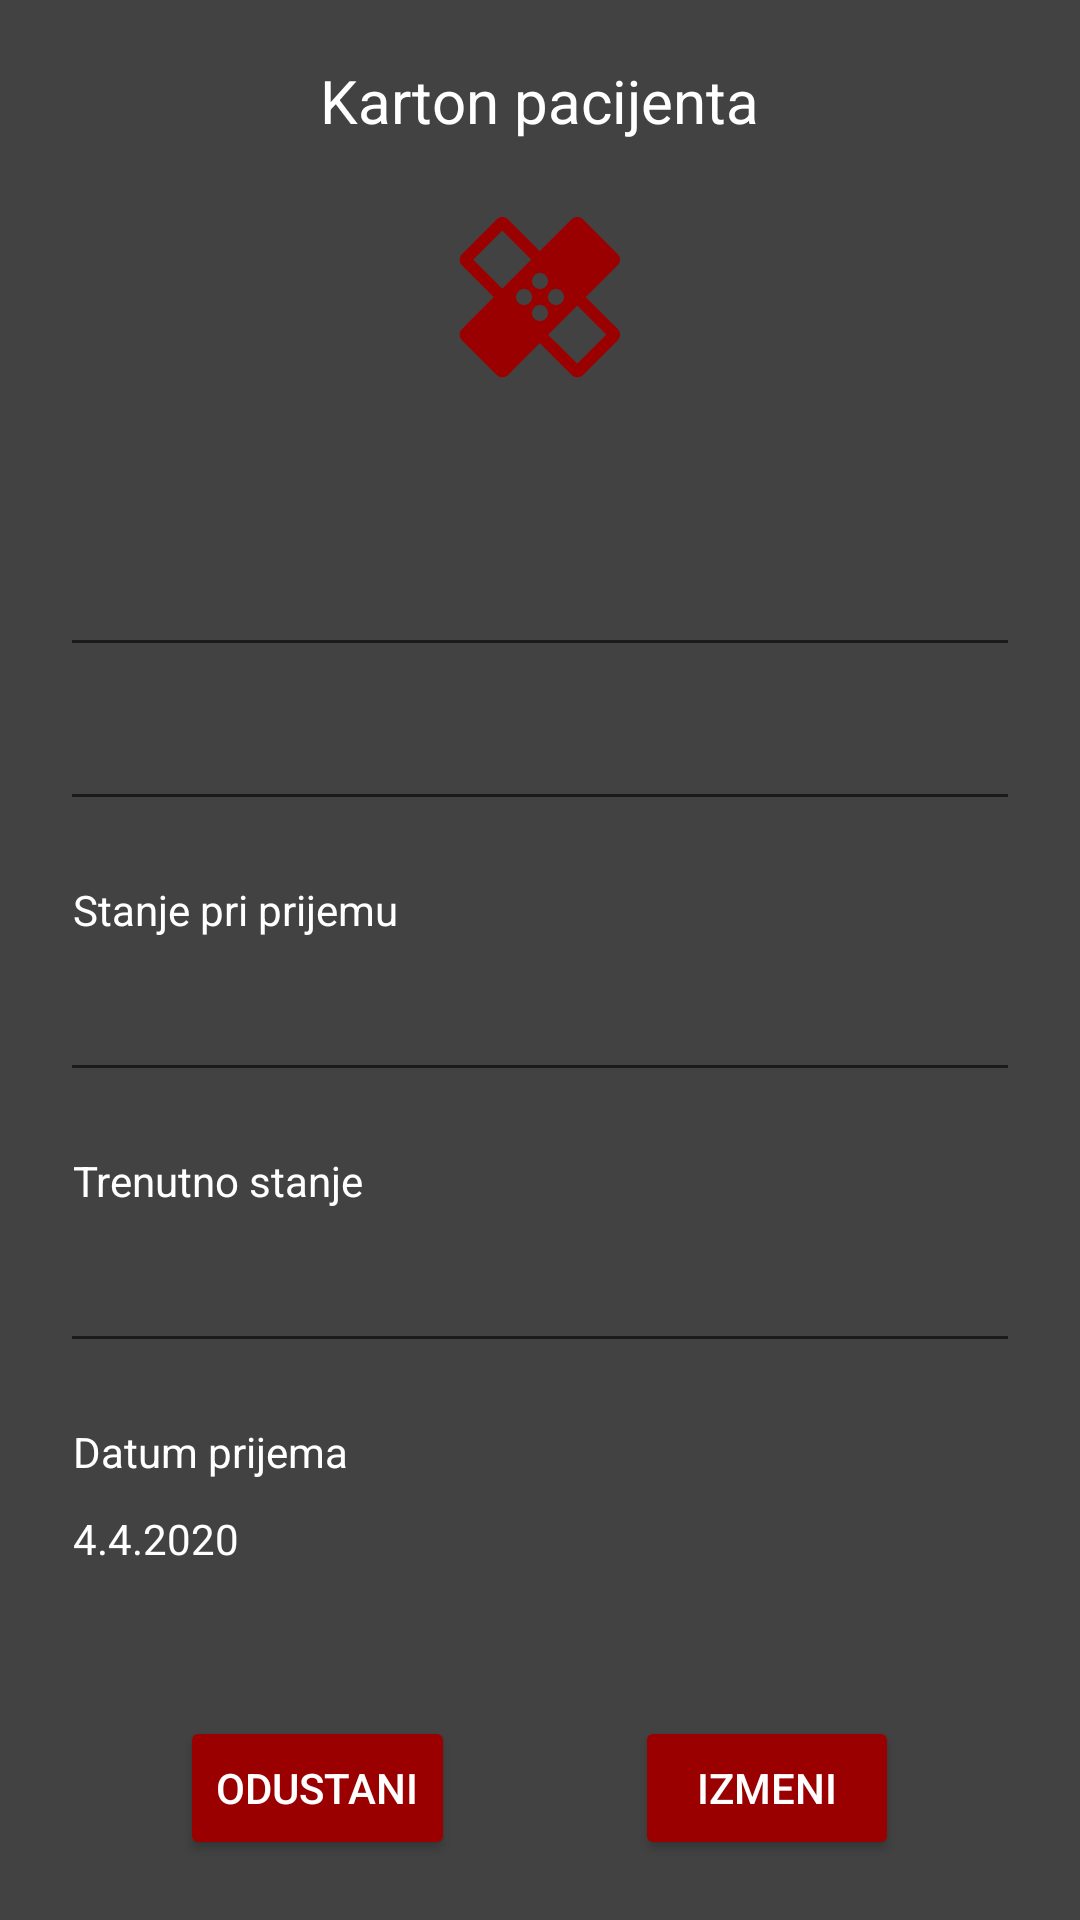

Named icons in this screenshot (1080px×1920px) and their centers, (x=x, y=y):
healing: (x=540, y=297)
